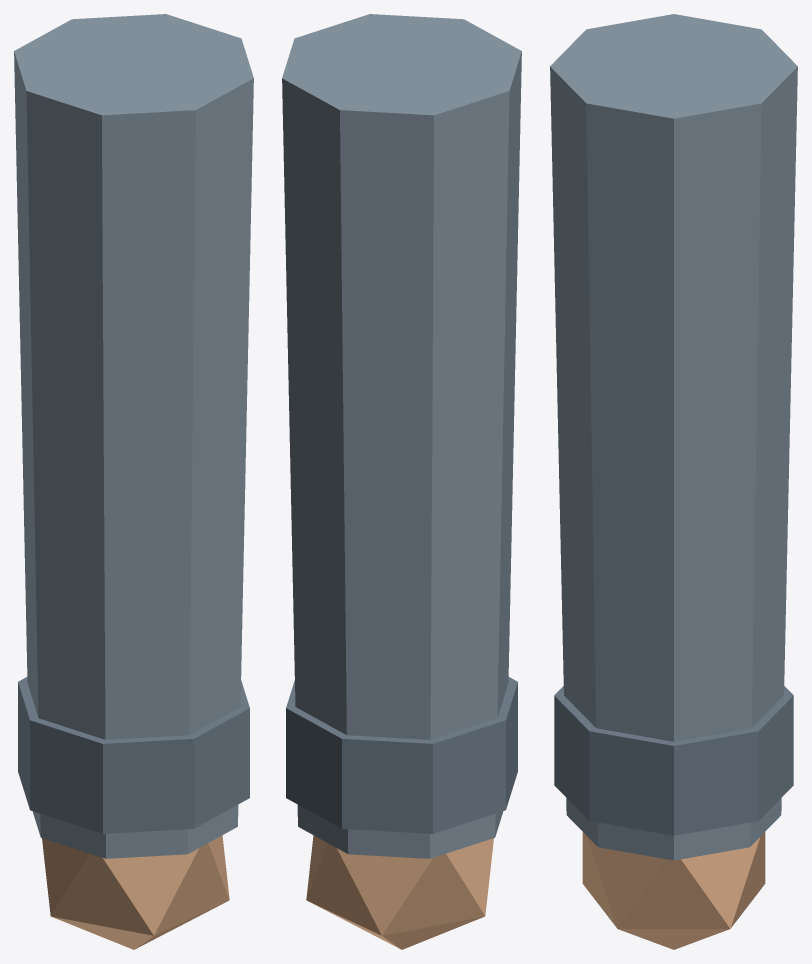
The model's file is insan_e1_kol.glb.
3 renders of one model, left to right at view 1: azimuth 30°, elevation 25°; view 2: azimuth 150°, elevation 25°; view 3: azimuth 270°, elevation 25°, orthographic.
Parts seen in each view (by area): view 1: Cone; view 2: Cone; view 3: Cone.
Boxes of the visible parts, box(x1,y1,x2,y2) form: Cone: box(14, 14, 253, 949); Cone: box(282, 14, 521, 949); Cone: box(550, 14, 797, 949).
Bounding box in the file's own units: 0.03 × 0.118 × 0.03.
